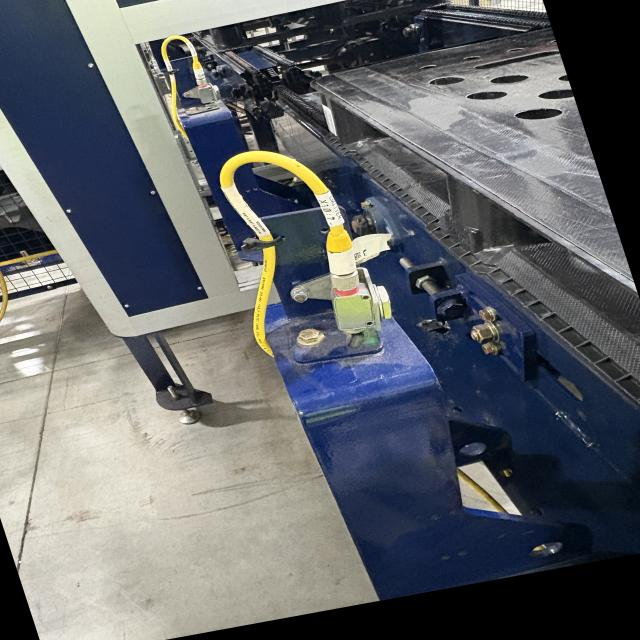igps: (304, 21, 640, 432)
